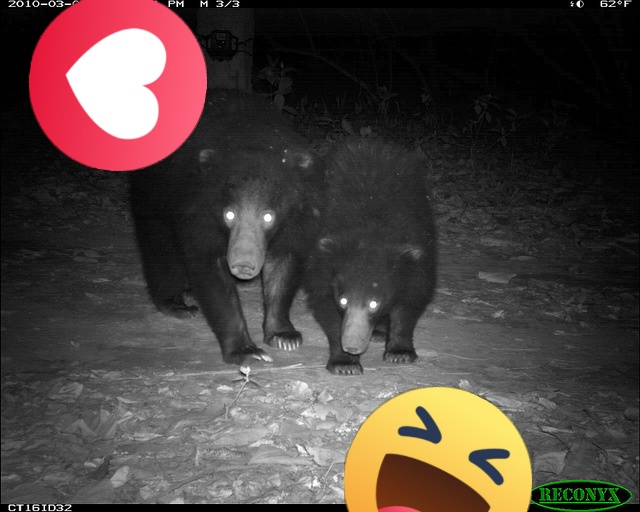haha: (344, 387, 532, 512)
love: (29, 0, 207, 171)
